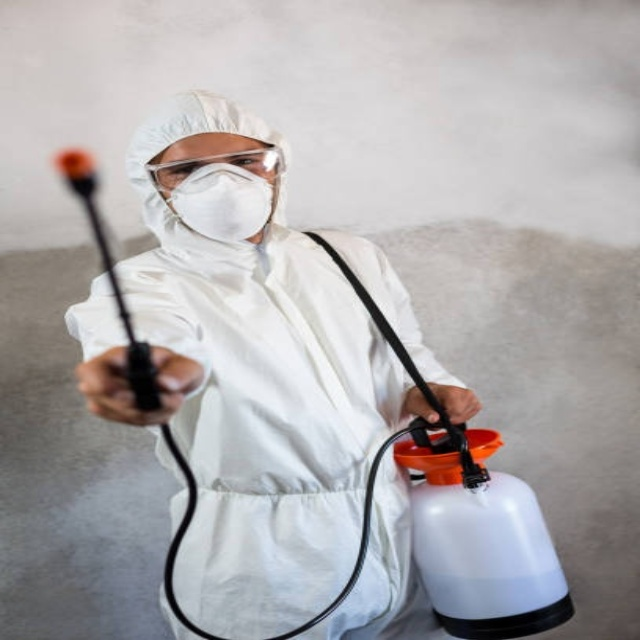Gafas: (147, 147, 285, 193)
Mascara: (162, 161, 276, 243)
Sin_guantes: (76, 343, 203, 425), (401, 381, 480, 428)
